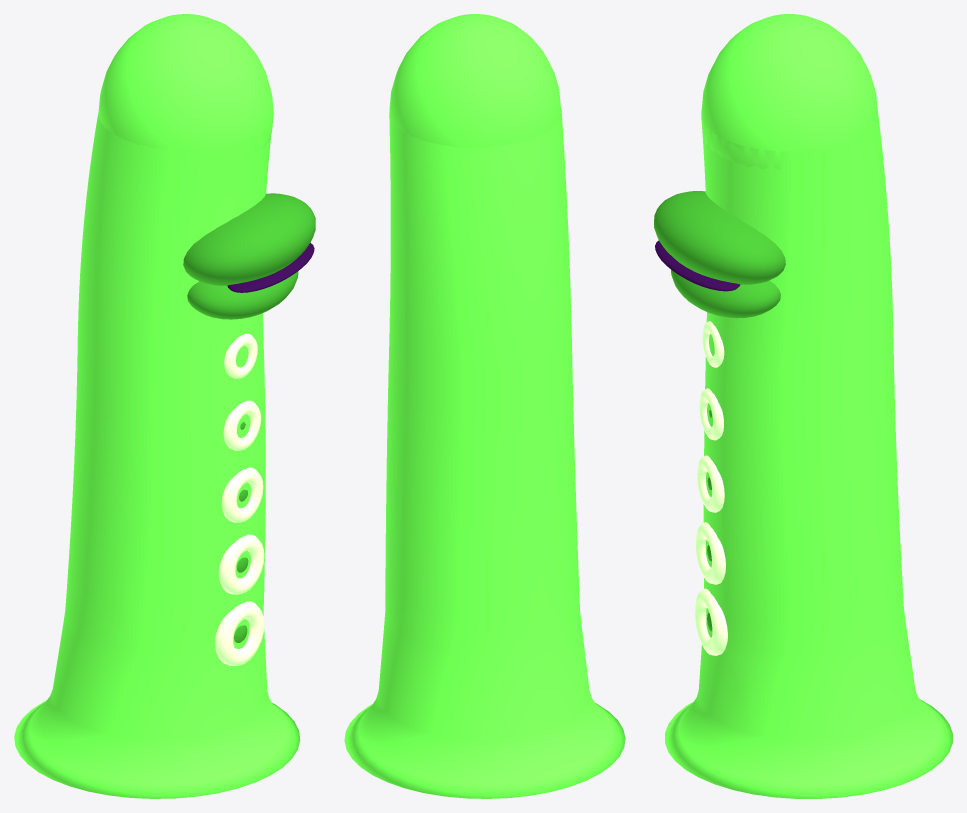
The model's file is green.glb.
The picture shows the model from 3 angles, left to right: view 1: azimuth 30°, elevation 25°; view 2: azimuth 150°, elevation 25°; view 3: azimuth 270°, elevation 25°; orthographic projection. The views are drawn at different scales.
Visible parts, largest first — view 1: T_green_Koerper.001, T_green_Kuppe.001, T_green_Oberlippe.001, T_green_Lippe.001, T_green_Napf4.001, T_green_Napf3.001, T_green_Napf2.001, T_green_Napf1.001, T_green_Schlitz.001, T_green_Napf0.001; view 2: T_green_Koerper.001, T_green_Kuppe.001; view 3: T_green_Koerper.001, T_green_Kuppe.001, T_green_Oberlippe.001, T_green_Lippe.001, T_green_Napf4.001, T_green_Napf3.001, T_green_Napf2.001, T_green_Schlitz.001, T_green_Napf1.001, T_green_Napf0.001.
Boxes of the visible parts, x1,y1,x2,y2 form: T_green_Koerper.001: (14, 114, 300, 798); T_green_Kuppe.001: (98, 14, 273, 157); T_green_Oberlippe.001: (183, 193, 315, 285); T_green_Lippe.001: (187, 271, 298, 319); T_green_Napf4.001: (215, 601, 264, 665); T_green_Napf3.001: (218, 534, 264, 594); T_green_Napf2.001: (221, 467, 263, 522); T_green_Napf1.001: (223, 400, 261, 450); T_green_Schlitz.001: (227, 243, 314, 292); T_green_Napf0.001: (224, 333, 257, 378); T_green_Koerper.001: (344, 109, 625, 798); T_green_Kuppe.001: (389, 14, 561, 148); T_green_Koerper.001: (665, 111, 952, 798); T_green_Kuppe.001: (701, 14, 877, 169); T_green_Oberlippe.001: (654, 191, 785, 284); T_green_Lippe.001: (671, 270, 780, 318); T_green_Napf4.001: (695, 588, 727, 655); T_green_Napf3.001: (696, 522, 725, 584); T_green_Napf2.001: (697, 455, 724, 512); T_green_Schlitz.001: (655, 240, 740, 291); T_green_Napf1.001: (699, 388, 723, 440); T_green_Napf0.001: (702, 321, 724, 367).
Size of the model in its own units: 0.7012 by 1.95 by 0.7275.
